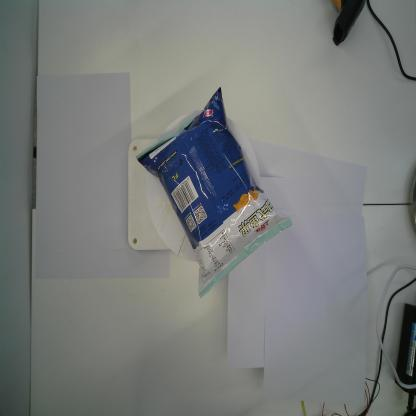Puffed Food: (134, 85, 293, 299)
